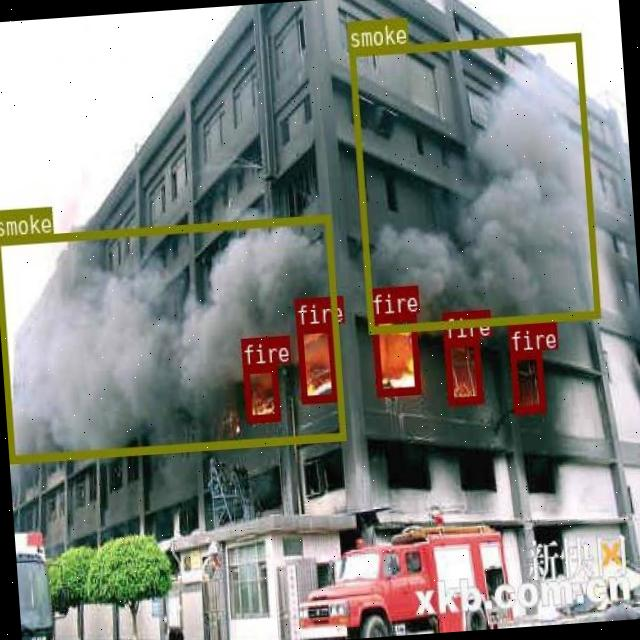fire: (370, 312, 419, 394), (296, 324, 336, 402), (443, 336, 482, 403), (242, 362, 279, 422), (509, 350, 544, 413)
smoke: (0, 213, 345, 462), (347, 31, 599, 333)
